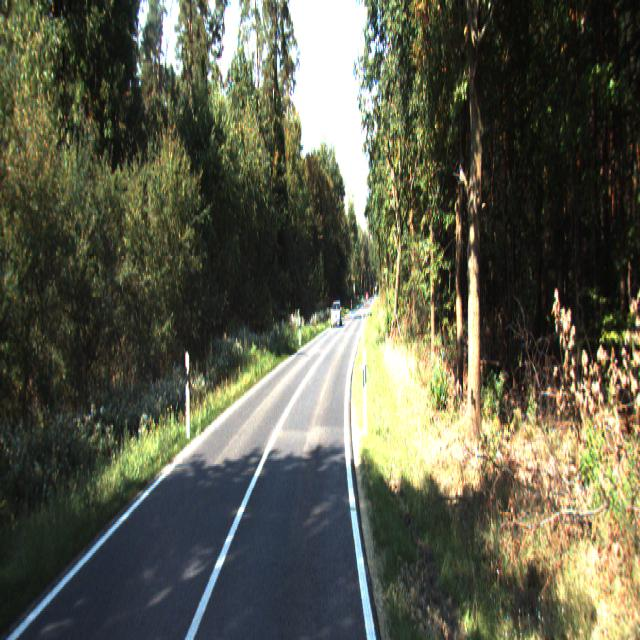Car: (329, 301, 344, 329)
